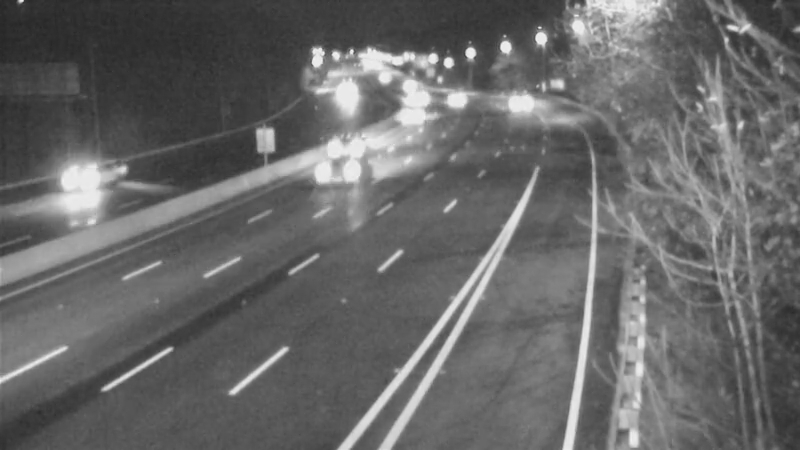vehicle: (307, 136, 387, 216), (34, 142, 114, 222), (376, 61, 426, 111), (485, 76, 535, 126), (430, 71, 480, 121), (393, 72, 443, 122), (388, 90, 438, 140), (311, 116, 361, 166), (316, 68, 366, 118)
